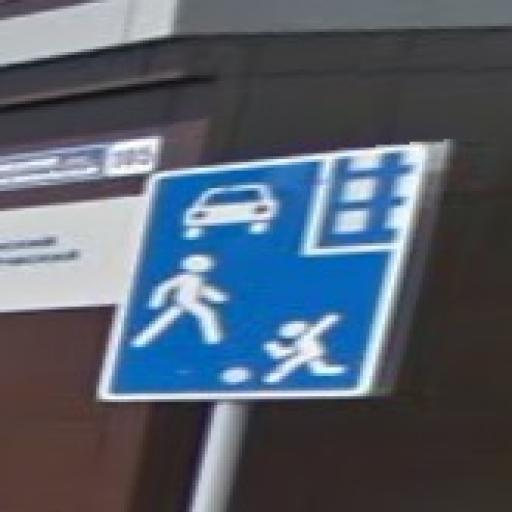traffic_sign: (94, 143, 429, 403)
